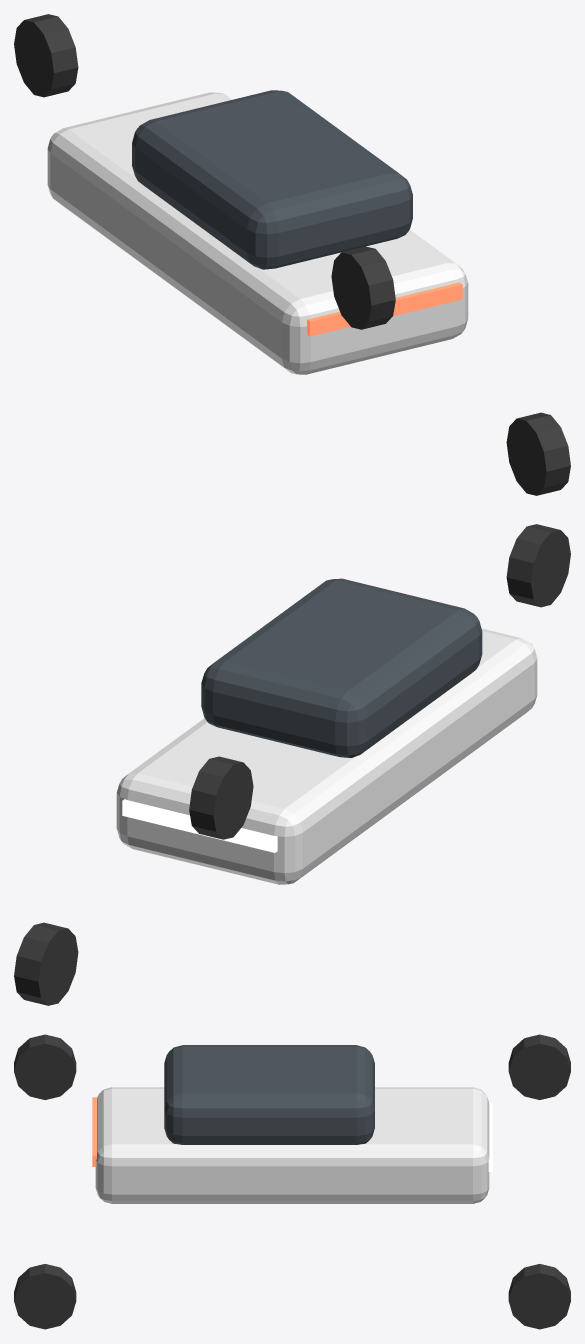
File: car.glb
3 renders of one model, top to bottom at view 1: azimuth 30°, elevation 25°; view 2: azimuth 150°, elevation 25°; view 3: azimuth 270°, elevation 25°, orthographic. The views are drawn at different scales.
Parts seen in each view (by area): view 1: car; view 2: car; view 3: car.
Part boxes in pixels (x1,y1,x2,y2): car: [14, 14, 570, 495]; car: [14, 524, 570, 1005]; car: [14, 1034, 570, 1329].
Size of the model in its own units: 2.22 by 2.64 by 6.08.
